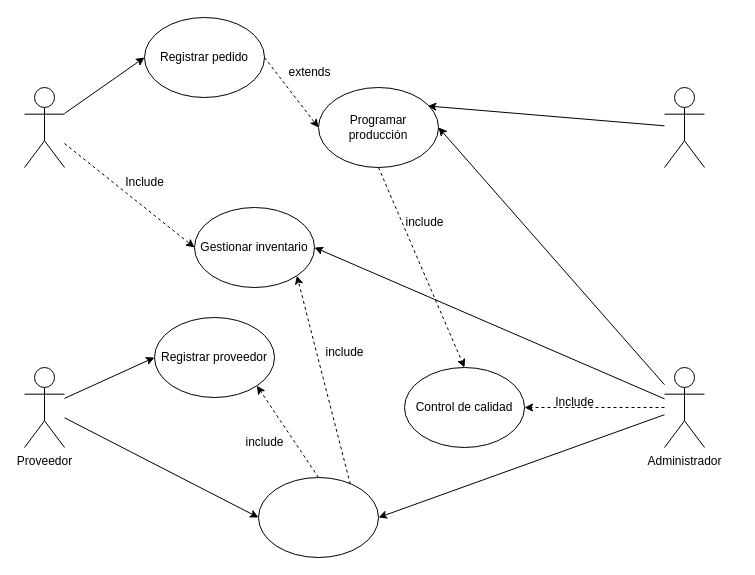
Some shapes in this 755 by 575 pixel diagram are drawn without their labels. Here are the shapes that lost their labels. From the top down, the centre of each, then its label:
At pixel 44 127: "Cliente".
At pixel 684 127: "Sistema maquinaria".
At pixel 318 517: "emitir orden de compra".
